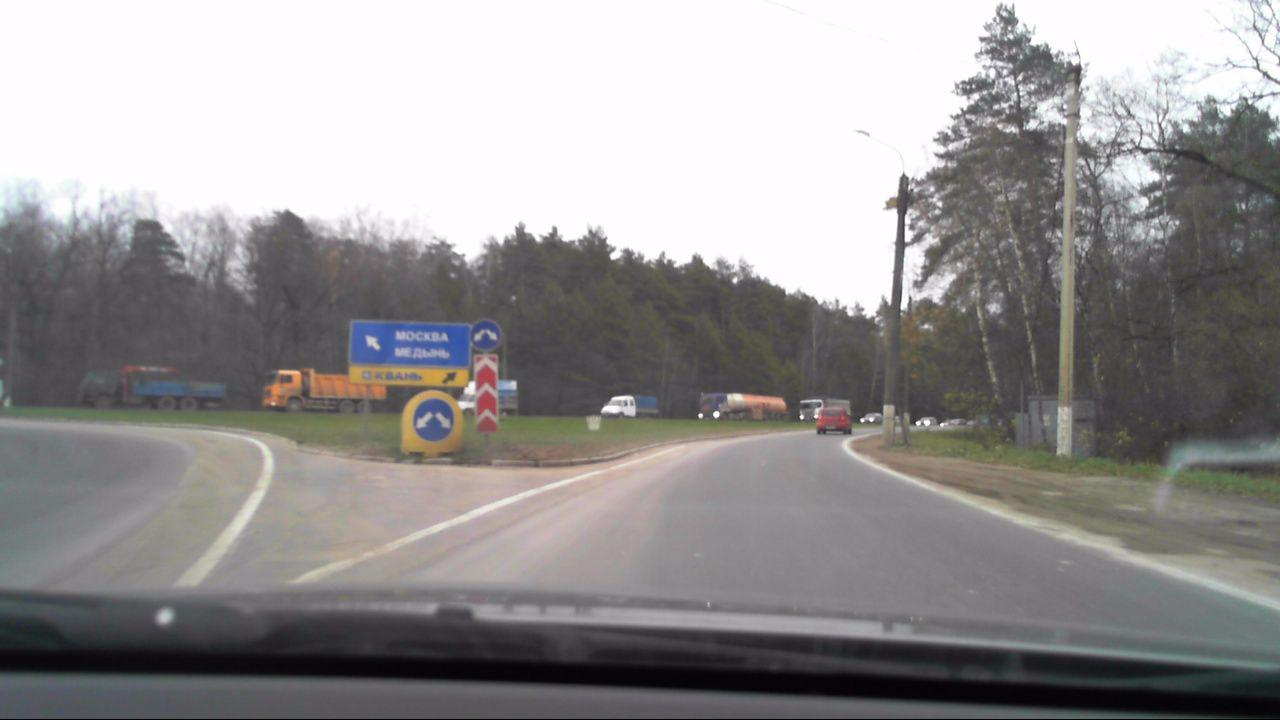4_2_3: (412, 396, 454, 445), (471, 316, 504, 350)
8_22_3: (475, 354, 502, 432)
